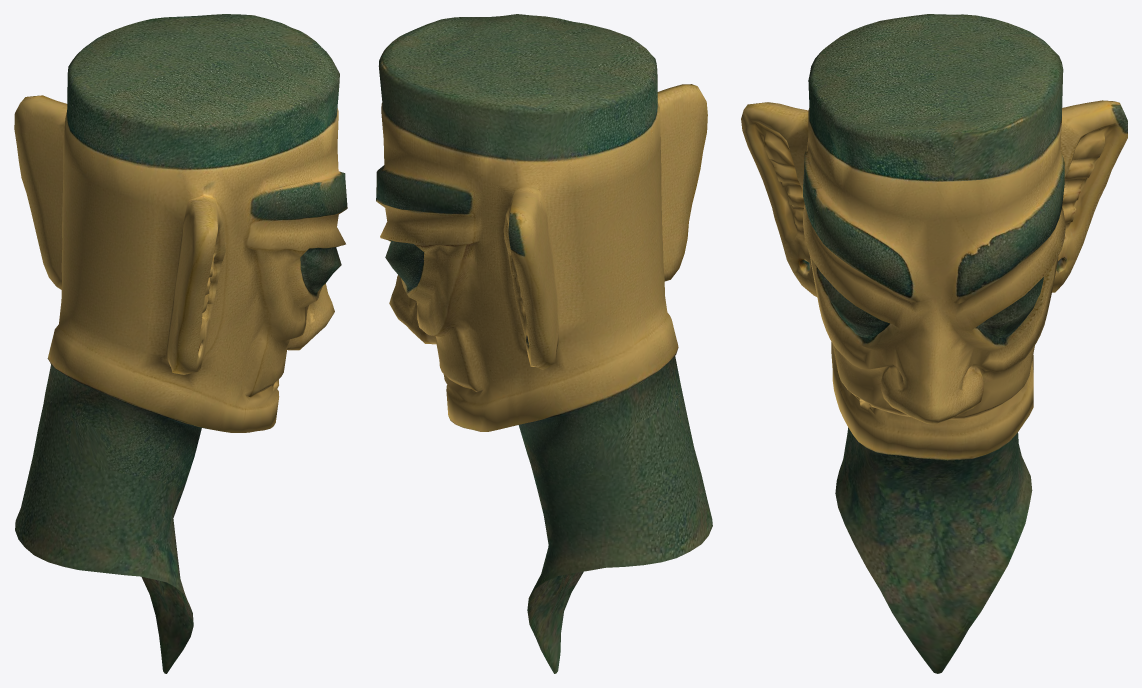
File: mask-a.glb
3 views of the same model, side by side, from view 1: azimuth 30°, elevation 25°; view 2: azimuth 150°, elevation 25°; view 3: azimuth 270°, elevation 25° (orthographic). The views are drawn at different scales.
Parts seen in each view (by area): view 1: tripo_node_be628d28-6181-4423-8740-a32cec94ce10; view 2: tripo_node_be628d28-6181-4423-8740-a32cec94ce10; view 3: tripo_node_be628d28-6181-4423-8740-a32cec94ce10.
Boxes of the visible parts, <box> form: tripo_node_be628d28-6181-4423-8740-a32cec94ce10: <box>14,14,347,673</box>; tripo_node_be628d28-6181-4423-8740-a32cec94ce10: <box>376,14,712,673</box>; tripo_node_be628d28-6181-4423-8740-a32cec94ce10: <box>741,14,1127,673</box>.
Size of the model in its own units: 0.5254 by 0.998 by 0.5605.
1 material, 1 textured.
